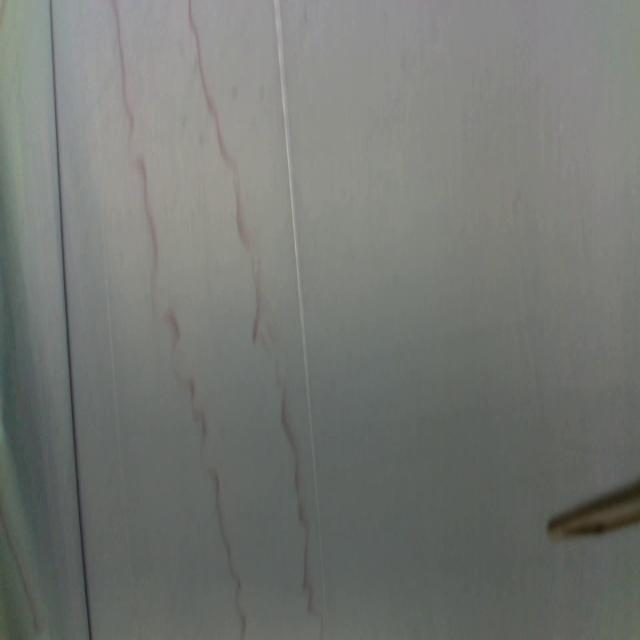crease: (274, 0, 329, 626), (49, 1, 92, 638), (100, 216, 138, 590)
